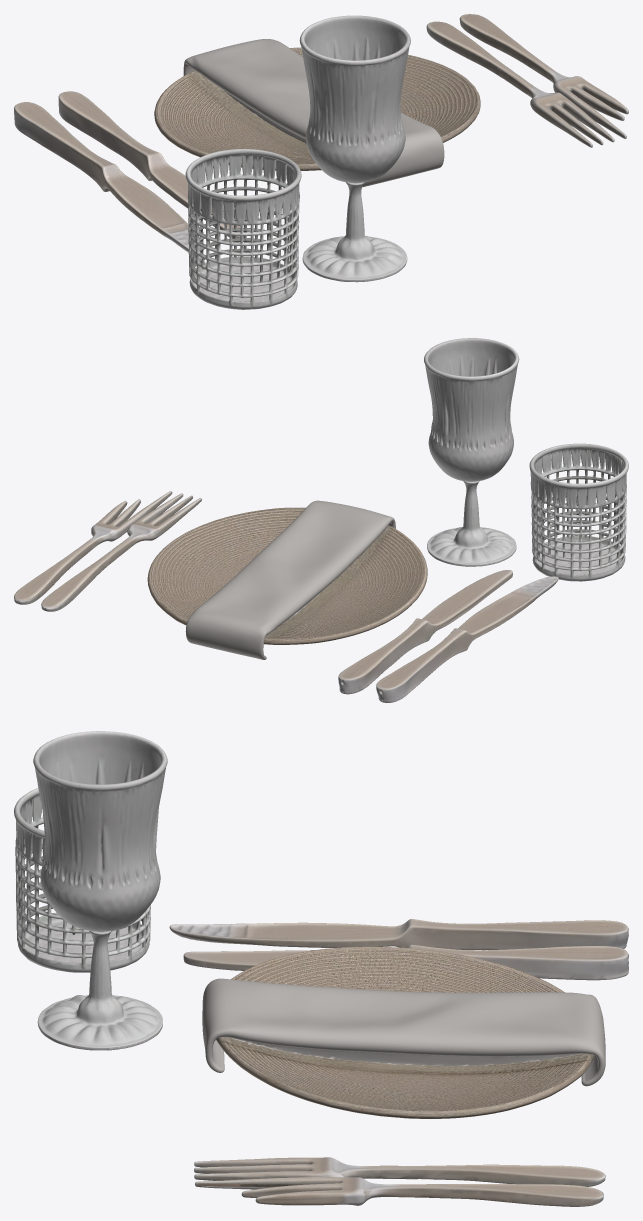
Rendered from decor-place-setting-vertical.glb.
3 renders of one model, top to bottom at view 1: azimuth 30°, elevation 25°; view 2: azimuth 150°, elevation 25°; view 3: azimuth 270°, elevation 25°, orthographic. The views are drawn at different scales.
Parts seen in each view (by area): view 1: tripo_part_0, tripo_part_1, tripo_part_2, tripo_part_3, tripo_part_5, tripo_part_7, tripo_part_6, tripo_part_8, tripo_part_4; view 2: tripo_part_2, tripo_part_3, tripo_part_0, tripo_part_1, tripo_part_5, tripo_part_6, tripo_part_7, tripo_part_8, tripo_part_4; view 3: tripo_part_3, tripo_part_2, tripo_part_1, tripo_part_5, tripo_part_0, tripo_part_4, tripo_part_8, tripo_part_7, tripo_part_6.
Boxes of the visible parts, bbox=[...] form: tripo_part_0: bbox=[185, 149, 301, 309]; tripo_part_1: bbox=[299, 15, 410, 183]; tripo_part_2: bbox=[154, 47, 480, 170]; tripo_part_3: bbox=[183, 39, 444, 187]; tripo_part_5: bbox=[14, 102, 200, 252]; tripo_part_7: bbox=[302, 182, 407, 282]; tripo_part_6: bbox=[58, 91, 243, 238]; tripo_part_8: bbox=[426, 21, 614, 147]; tripo_part_4: bbox=[459, 14, 628, 138]; tripo_part_2: bbox=[147, 507, 427, 644]; tripo_part_3: bbox=[185, 500, 395, 659]; tripo_part_0: bbox=[529, 443, 628, 581]; tripo_part_1: bbox=[424, 338, 519, 481]; tripo_part_5: bbox=[376, 576, 558, 702]; tripo_part_6: bbox=[338, 570, 512, 694]; tripo_part_7: bbox=[427, 481, 516, 566]; tripo_part_8: bbox=[41, 493, 201, 611]; tripo_part_4: bbox=[14, 491, 172, 604]; tripo_part_3: bbox=[202, 978, 605, 1086]; tripo_part_2: bbox=[216, 946, 594, 1118]; tripo_part_1: bbox=[33, 731, 167, 931]; tripo_part_5: bbox=[169, 919, 628, 949]; tripo_part_0: bbox=[14, 788, 150, 972]; tripo_part_4: bbox=[195, 1177, 603, 1206]; tripo_part_8: bbox=[194, 1157, 605, 1186]; tripo_part_7: bbox=[37, 931, 162, 1050]; tripo_part_6: bbox=[183, 944, 628, 980].
Bounding box in the file's own units: 0.45 × 0.1881 × 0.3936.
9 materials, 8 textured.
